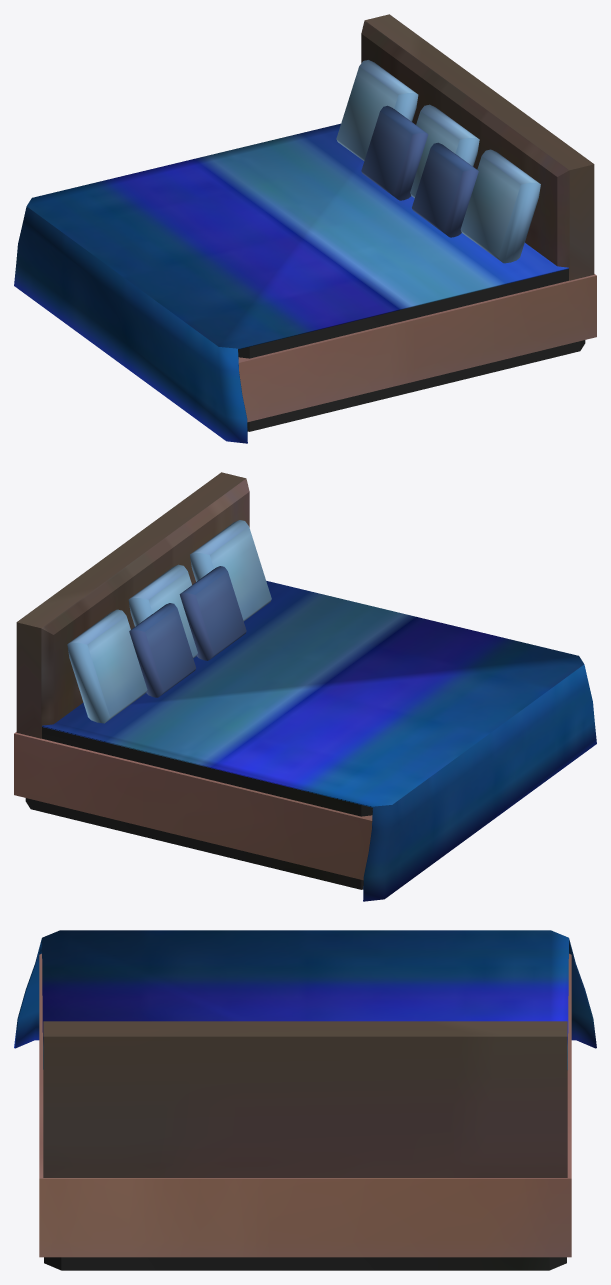
File: Bed.fbx
3 renders of one model, top to bottom at view 1: azimuth 30°, elevation 25°; view 2: azimuth 150°, elevation 25°; view 3: azimuth 270°, elevation 25°, orthographic. The views are drawn at different scales.
Parts seen in each view (by area): view 1: Bed_Blanket, Bed_Rim, Bed_HeadPiece, Bed_LargePillows, Bed_SmallPillows, Bed_Mattress; view 2: Bed_Blanket, Bed_Rim, Bed_HeadPiece, Bed_LargePillows, Bed_SmallPillows, Bed_Mattress; view 3: Bed_HeadPiece, Bed_Blanket, Bed_Rim, Bed_Mattress.
Boxes of the visible parts, bbox=[...] form: Bed_Blanket: bbox=[14, 123, 568, 443]; Bed_Rim: bbox=[238, 274, 596, 422]; Bed_HeadPiece: bbox=[361, 14, 594, 280]; Bed_LargePillows: bbox=[336, 60, 540, 263]; Bed_SmallPillows: bbox=[361, 105, 478, 237]; Bed_Mattress: bbox=[238, 269, 585, 431]; Bed_Blanket: bbox=[42, 581, 596, 901]; Bed_Rim: bbox=[14, 732, 372, 880]; Bed_HeadPiece: bbox=[16, 472, 249, 738]; Bed_LargePillows: bbox=[67, 520, 271, 723]; Bed_SmallPillows: bbox=[129, 566, 246, 697]; Bed_Mattress: bbox=[25, 727, 372, 889]; Bed_HeadPiece: bbox=[43, 1021, 567, 1177]; Bed_Blanket: bbox=[14, 930, 596, 1069]; Bed_Rim: bbox=[39, 953, 571, 1257]; Bed_Mattress: bbox=[44, 1257, 566, 1270].
Bounding box in the file's own units: 1271 × 598 × 1344.
1 material, 1 textured.
